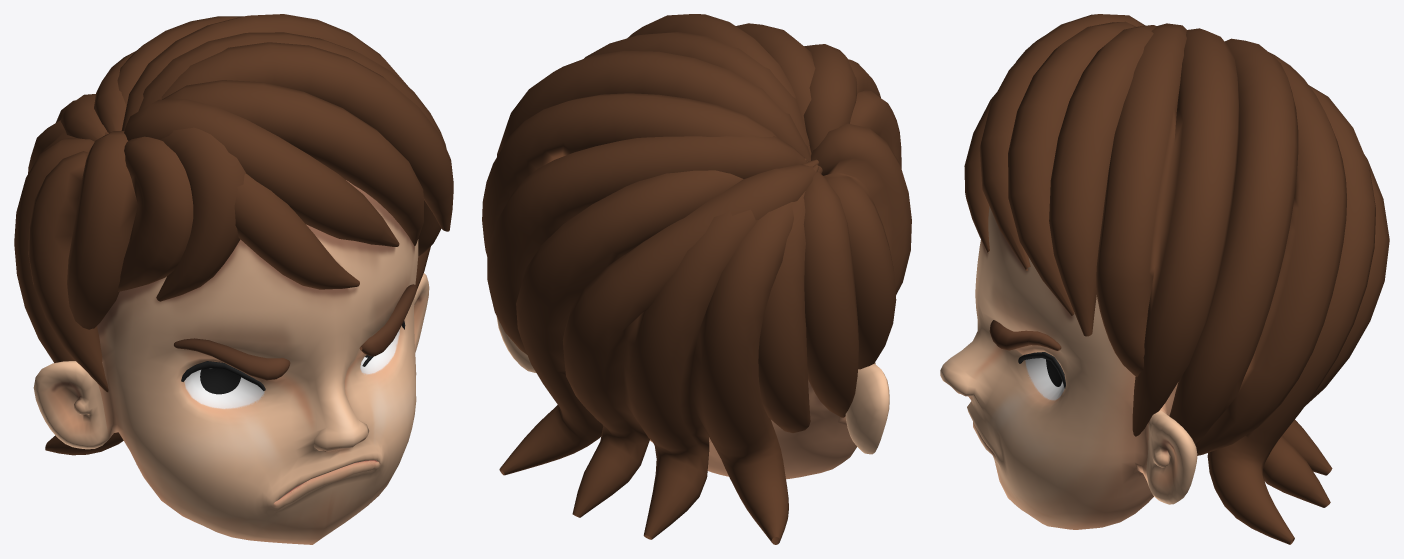
The model's file is KidAngry.glb.
3 renders of one model, left to right at view 1: azimuth 30°, elevation 25°; view 2: azimuth 150°, elevation 25°; view 3: azimuth 270°, elevation 25°, orthographic. The views are drawn at different scales.
Visible parts, largest first — view 1: BézierCurve.010, Cube.001, Cube.003; view 2: BézierCurve.010, Cube.001; view 3: BézierCurve.010, Cube.001.
Part boxes in pixels (x1,y1,x2,y2): BézierCurve.010: (14,14,453,455); Cube.001: (33,180,429,544); Cube.003: (181,321,405,390); BézierCurve.010: (482,14,911,544); Cube.001: (496,316,889,479); BézierCurve.010: (964,14,1389,544); Cube.001: (940,206,1197,529).
Size of the model in its own units: 0.479 by 0.5396 by 0.459.
3 materials, 2 textured.
